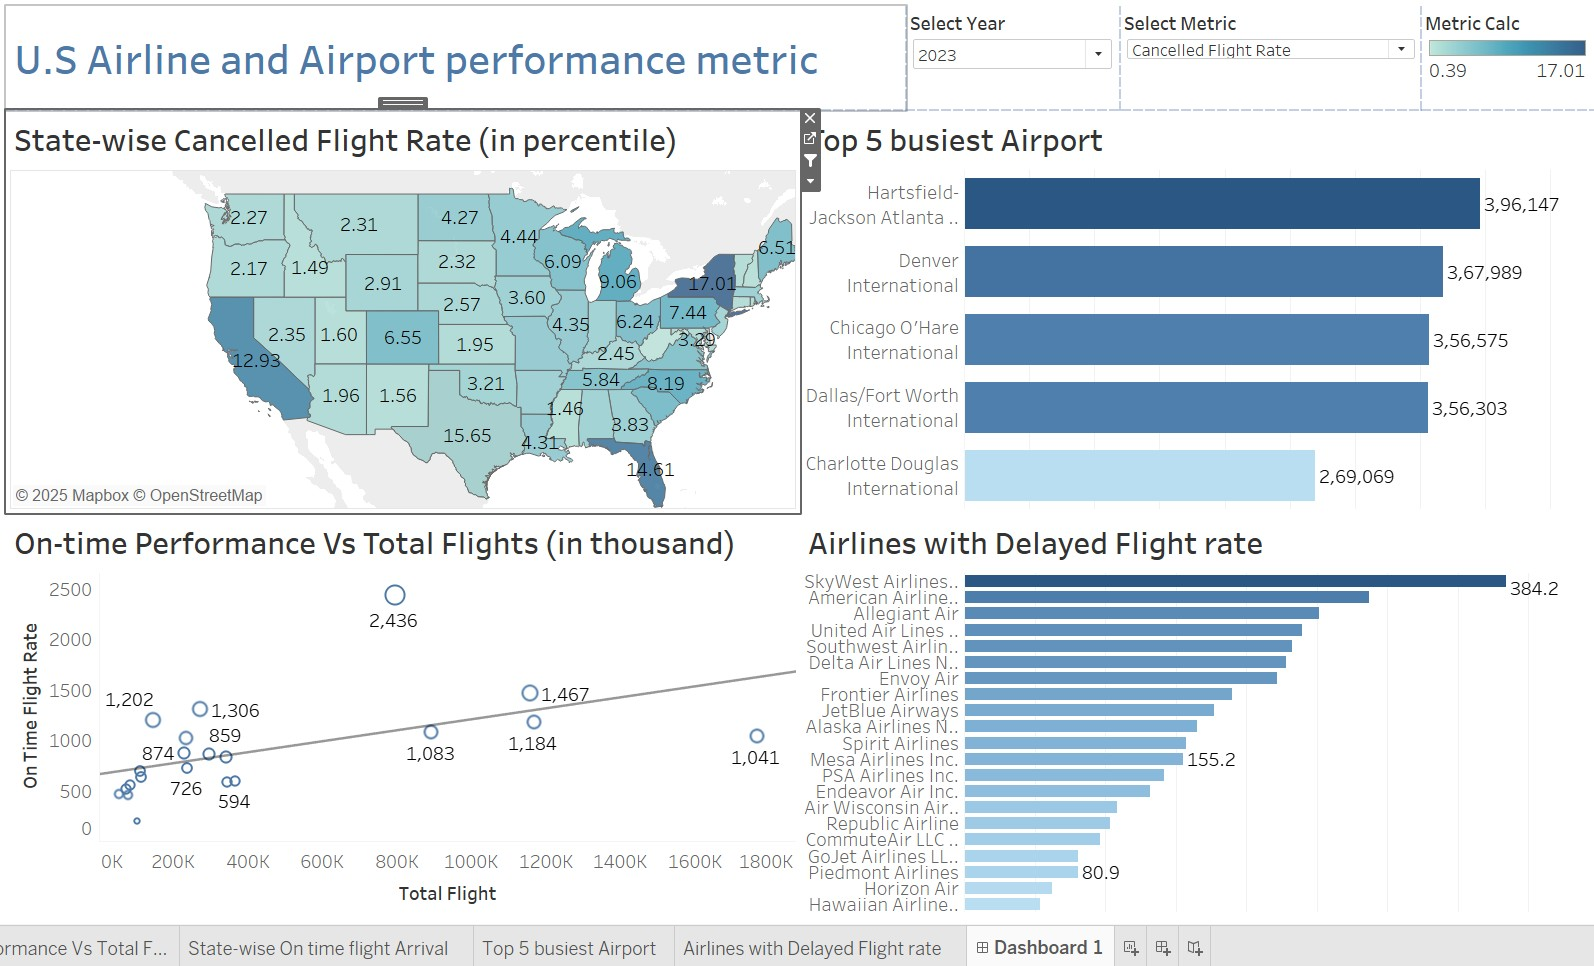

What the dashboard file says about the page in this screenshot:
{"tool":"tableau","page":{"name":"Dashboard 1","canvas":[1000,1000],"units":"permille","ordinal":0},"visuals":[{"type":"text","box":[5,8.6,561.4,112.8]},{"type":"filter","title":"On-time Performance Vs Total Flights","param":"[federated.0dmpg1z0ben2j214csurf0ol9ckg].[yr:Year (date):ok]","box":[566.4,8.6,132.8,112.8]},{"type":"parameter","param":"[Parameters].[Parameter 1]","box":[699.2,8.6,188.1,112.8]},{"type":"legend","title":"State-wise On time flight Arrival","param":"[federated.0dmpg1z0ben2j214csurf0ol9ckg].[sum:Calculation_2241385304334180354:qk","box":[887.3,8.6,107.7,87.5]},{"type":"worksheet","title":"State-wise On time flight Arrival","mark":"Automatic","box":[5,121.4,495,434.9]},{"type":"worksheet","title":"Top 5 busiest Airport","mark":"Automatic","rows":["AirportName"],"cols":["TotalFlight"],"box":[500,121.4,495,434.9]},{"type":"worksheet","title":"On-time Performance Vs Total Flights","mark":"Automatic","rows":["OnTimeFlightRate"],"cols":["TotalFlight"],"box":[5,556.4,495,435]},{"type":"worksheet","title":"Airlines with Delayed Flight rate","mark":"Automatic","rows":["AirlineName"],"cols":["DelayedFlightRate"],"box":[500,556.4,495,435]}]}

Visuals, with their boxes on the dashboard's canvas, which has no fixed pixel size, in thousandths of its width and height (x1, y1, x2, y2). These are canvas units, not pixel positions in the 1594x966 screenshot, which may show the page scaled, cropped or inside an application window:
text: locate(5, 9, 566, 121)
"On-time Performance Vs Total Flights" filter: locate(566, 9, 699, 121)
parameter: locate(699, 9, 887, 121)
"State-wise On time flight Arrival" legend: locate(887, 9, 995, 96)
"State-wise On time flight Arrival" worksheet: locate(5, 121, 500, 556)
"Top 5 busiest Airport" worksheet: locate(500, 121, 995, 556)
"On-time Performance Vs Total Flights" worksheet: locate(5, 556, 500, 991)
"Airlines with Delayed Flight rate" worksheet: locate(500, 556, 995, 991)
